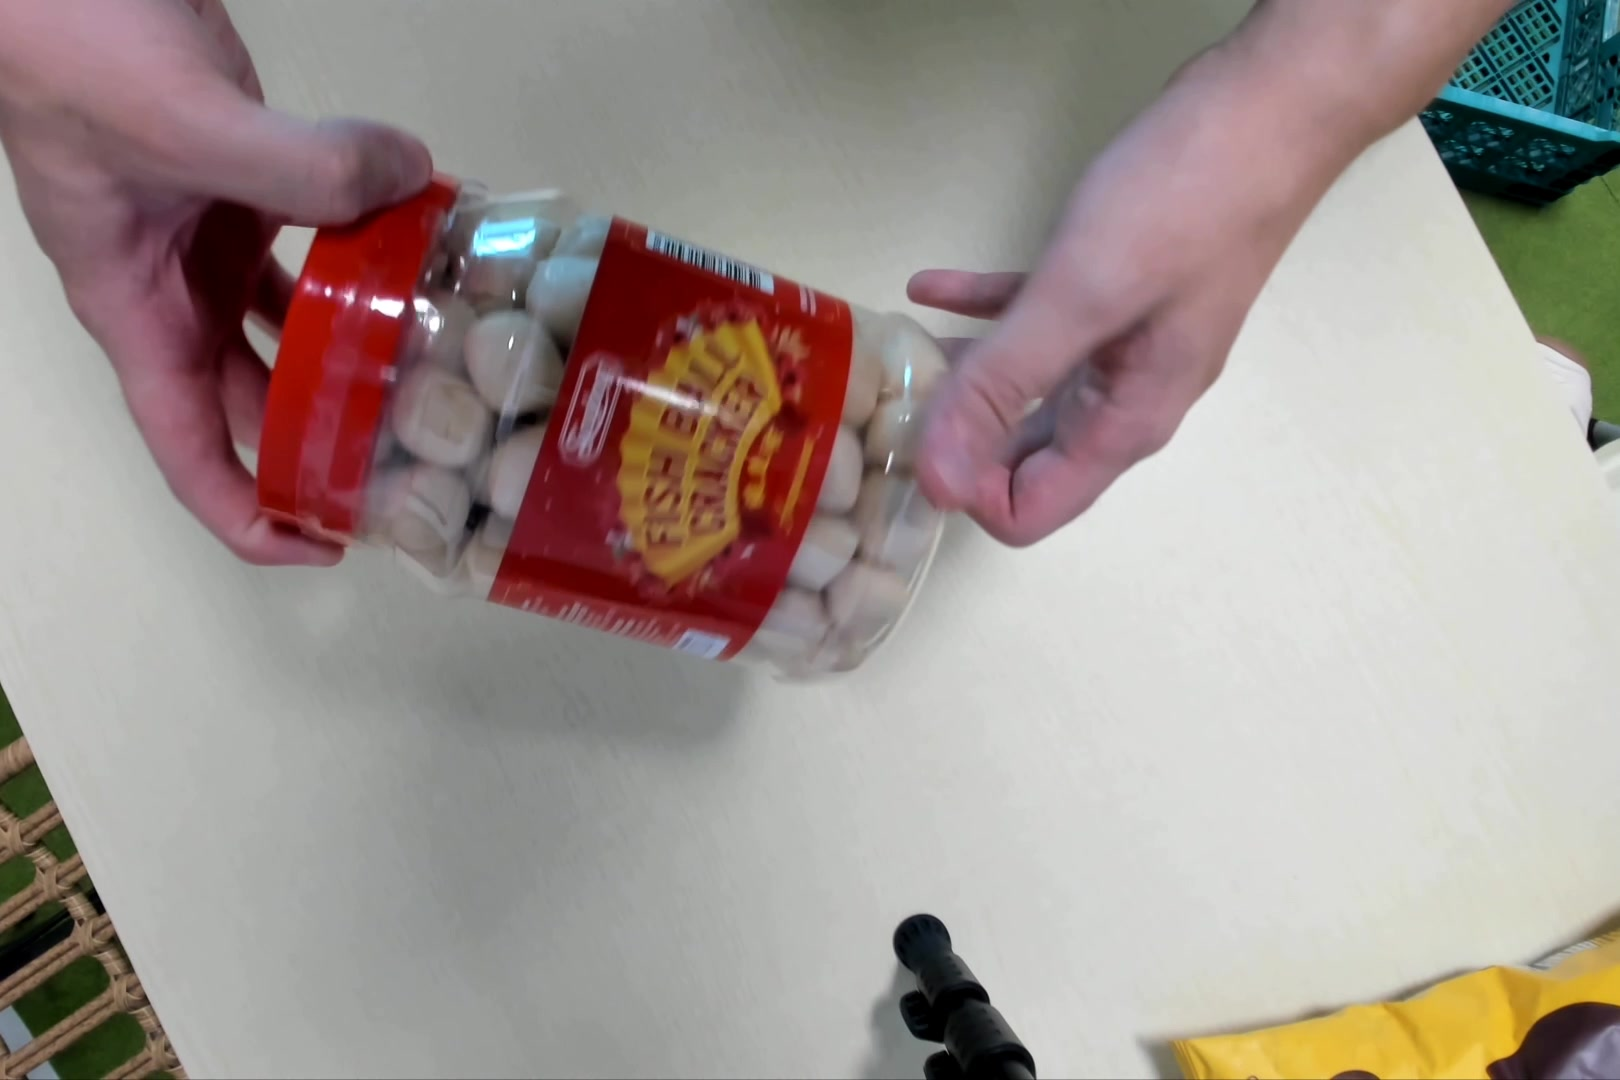PotatoChipsKeropok_100-199g_NonHalal_NonHealthy: (258, 172, 965, 665)
